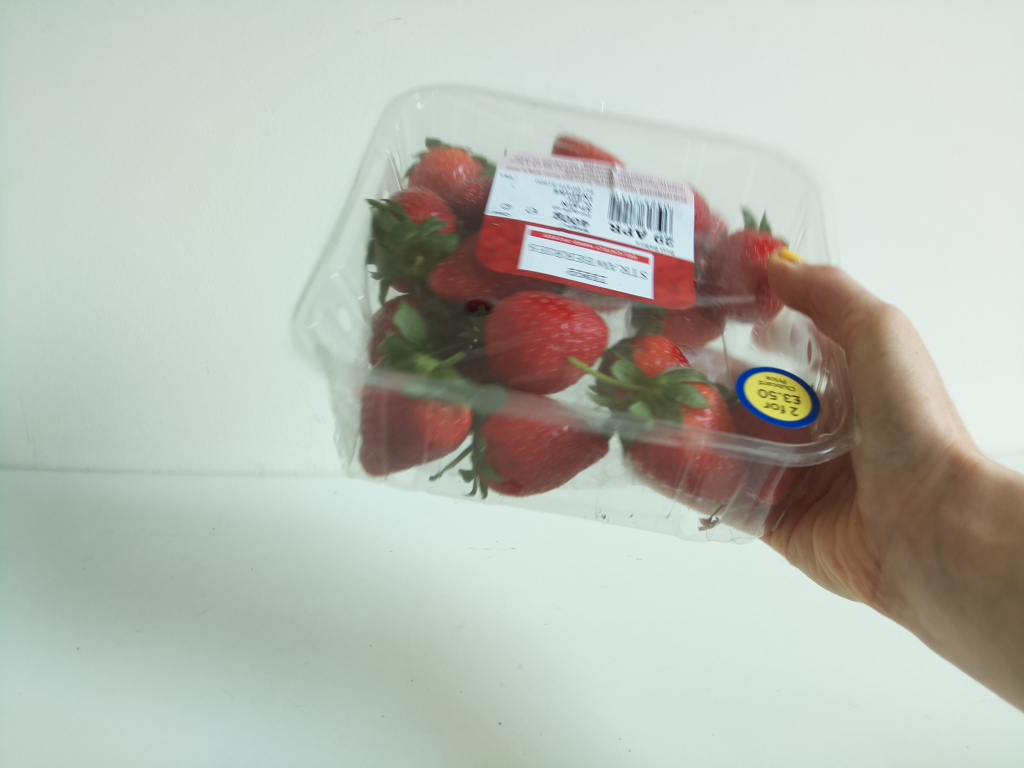soft-fruit: (287, 80, 866, 554)
